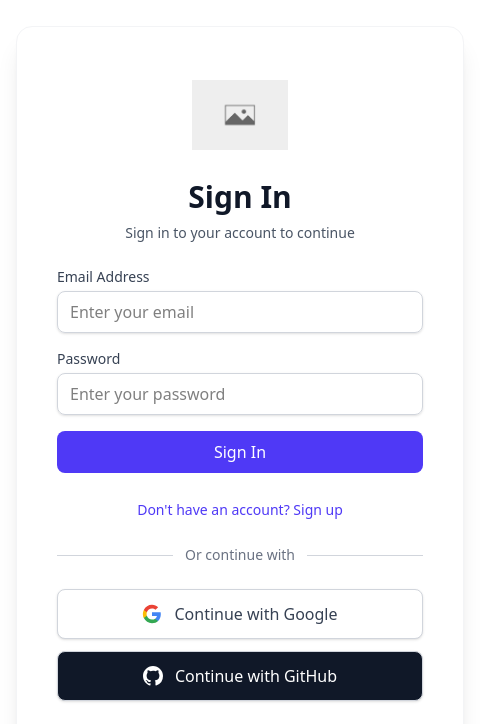
Test: AuthClientPage Component (Vitest) › switches seamlessly to sign-up view when requested
The width and height of the screenshot is (481, 724).
What coordinates should you click on to do the following:
click the button "Don't have an account? Sign up"
I would click on:
 (240, 510)
Its box is [137,500,343,520].
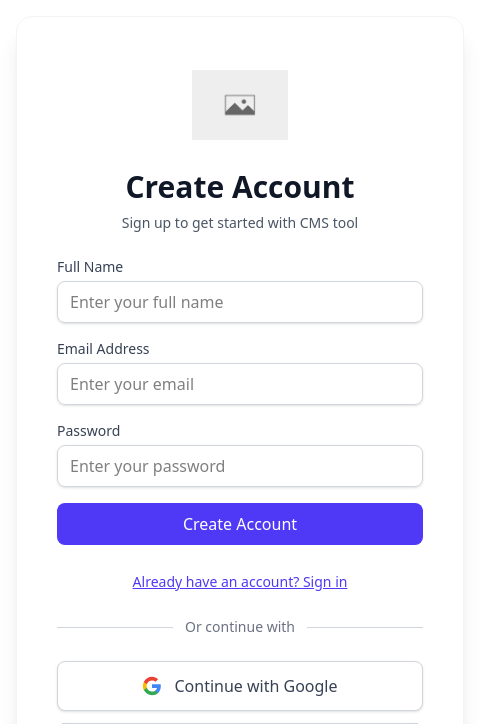
Expected: the heading reads "Create Account", [126,166,355,207]
Expected: the field labelled "Full Name" is shown, [57,281,423,323]
Expected: the button "Already have an account? Sign in" is shown, [133,572,347,592]
